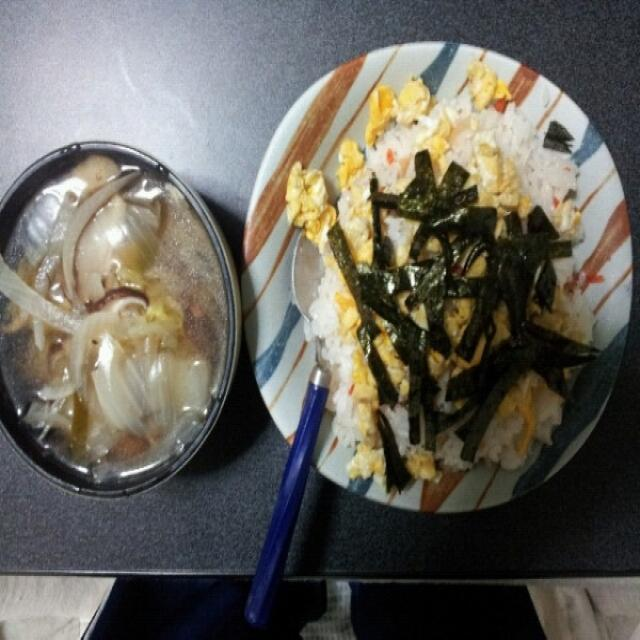寿司卷物: (234, 21, 636, 526)
汤锅炖物: (0, 131, 236, 506)
